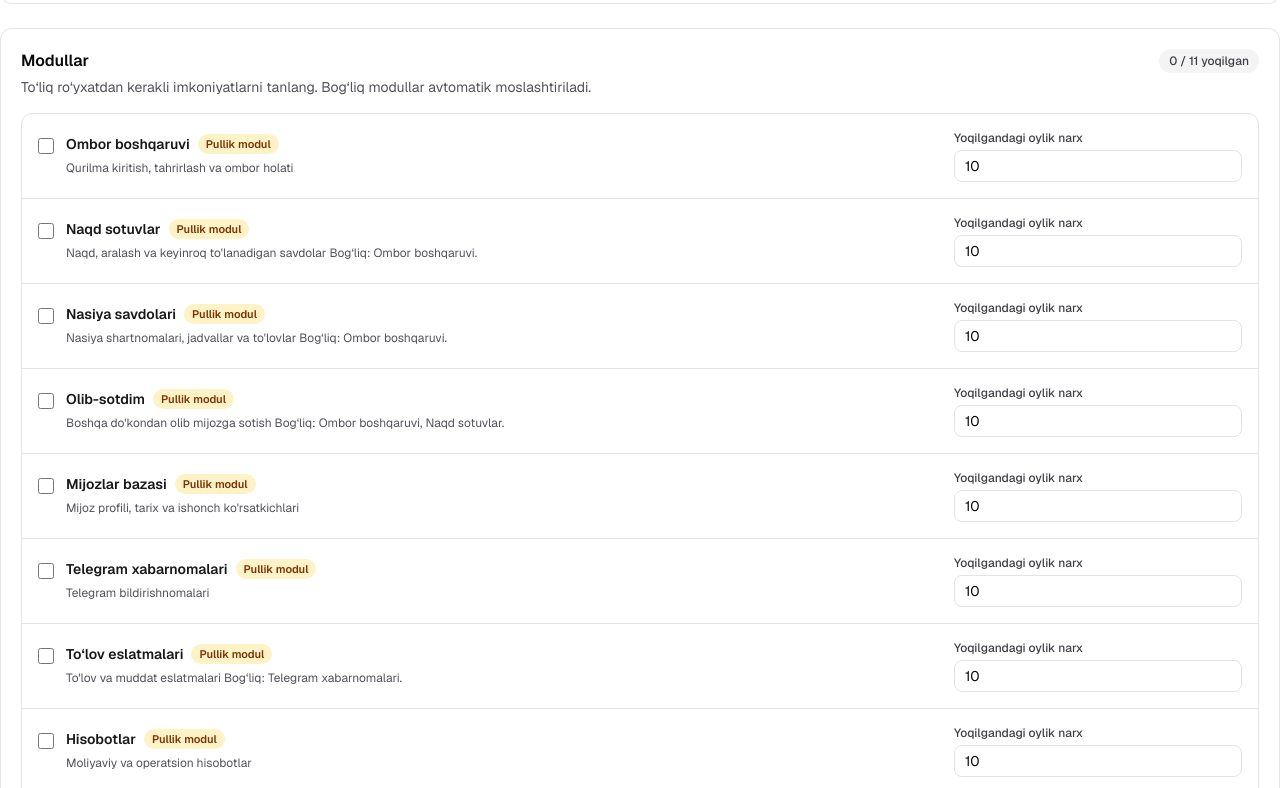
Test: ShopPackageEditor › enables prerequisites and disables dependents as one consistent snapshot
The width and height of the screenshot is (1280, 788).
(page scrolled)
What coordinates should you click on to do the following:
click the checkbox labelled "Olib-sotdim"
I would click on:
 (46, 401)
Its box is [38,393,54,409].
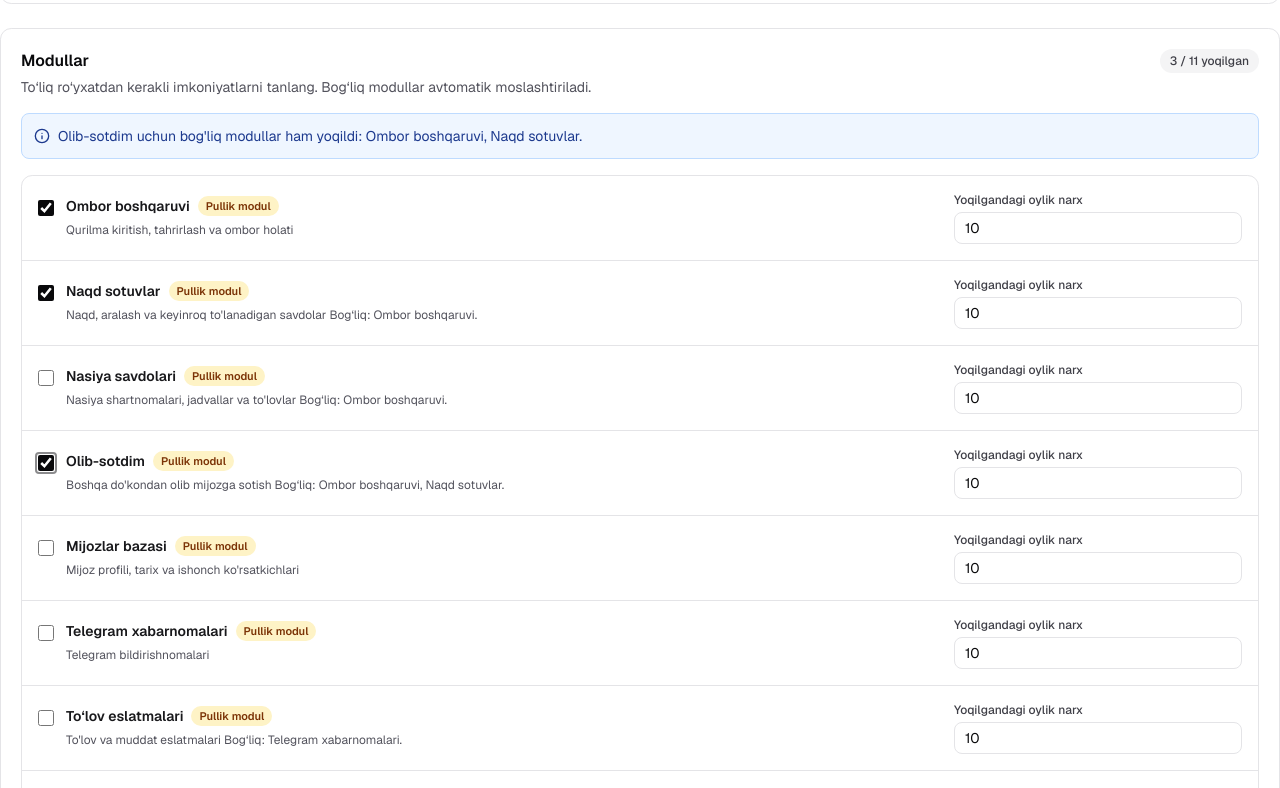
Result: the checkbox labelled "Olib-sotdim" is checked at [38,455,54,471]
Result: the checkbox labelled "Ombor boshqaruvi" is checked
Result: the checkbox labelled "Naqd sotuvlar" is checked at [38,285,54,301]
What coordinates should you click on to do the following:
click the checkbox labelled "Ombor boshqaruvi"
I would click on:
 (46, 208)
Its box is [38,200,54,216].
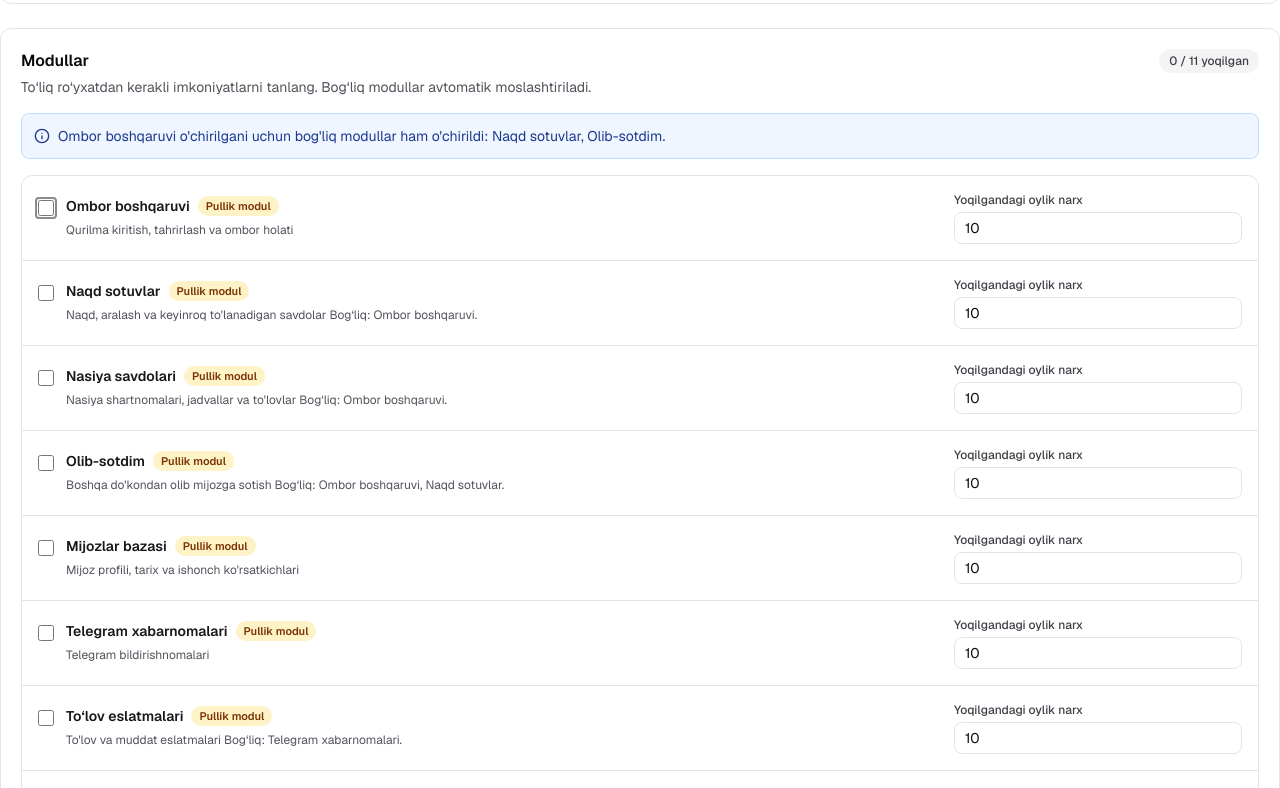
Result: the checkbox labelled "Olib-sotdim" is not checked at [38,455,54,471]
Result: the checkbox labelled "Naqd sotuvlar" is not checked at [38,285,54,301]
Result: the message shows "bog'liq modullar ham o'chirildi" at [58,127,665,145]
